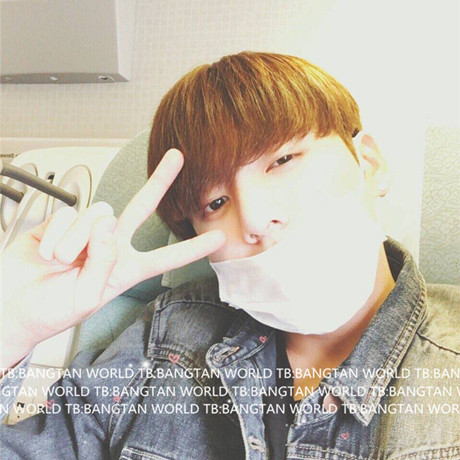face_mask: (190, 100, 356, 316)
